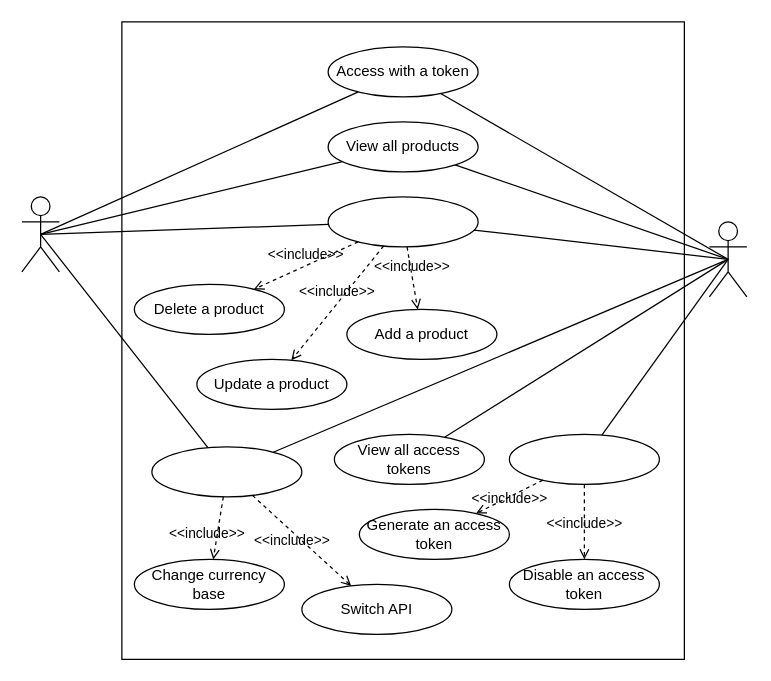
The diagram is 771 pixels wide and 681 high, and some of its shapes have lost their labels. The centre of each missing label's shape, as x and y in pixels:
Admin: pixel 727 259
Configure helper: pixel 226 471
Manage access tokens: pixel 583 458
Manipulate products: pixel 402 221
User: pixel 40 234
